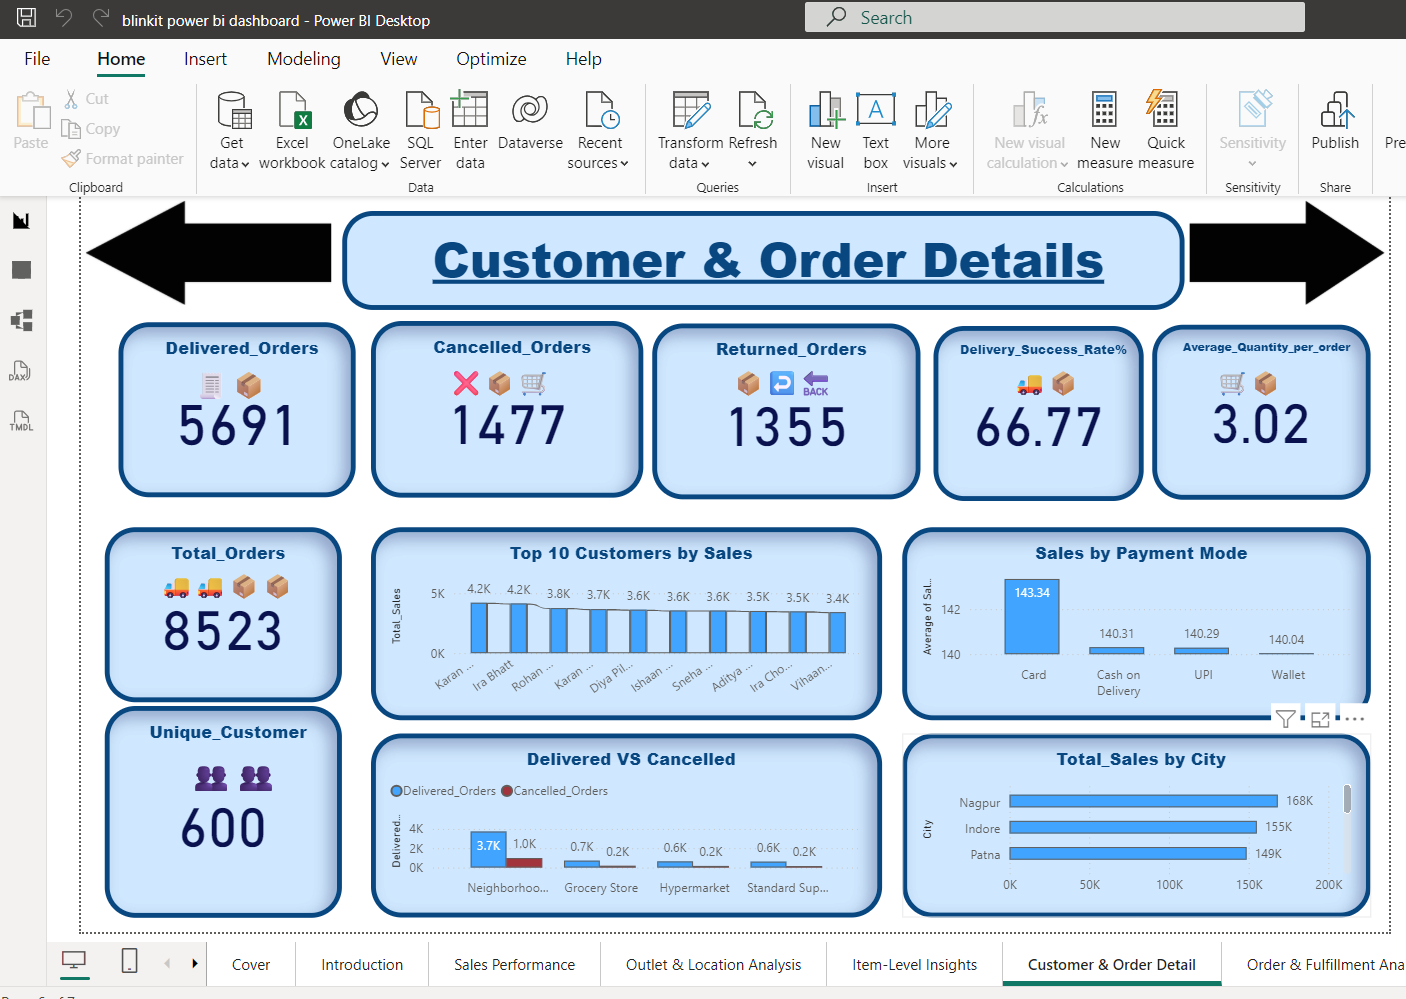

The dashboard page shown, as its layout file describes it:
{"tool":"powerbi","page":{"name":"Customer & Order Detail","canvas":[1280,720],"ordinal":5},"visuals":[{"type":"textbox","title":"Customer & Order Details","box":[255.6,14.7,824.2,96.6],"z":0},{"type":"cardVisual","title":"Delivered_Orders","fields":{"Data":["blinkit_data_master.Delivered_Orders"]},"box":[36.7,123.5,232.3,171.2],"z":1000},{"type":"cardVisual","title":"Cancelled_Orders","fields":{"Data":["blinkit_data_master.Cancelled_Orders"]},"box":[283.7,122.3,266.6,172.4],"z":2000},{"type":"cardVisual","title":"Returned_Orders","fields":{"Data":["blinkit_data_master.Returned_Orders"]},"box":[559.2,124.3,262.8,172.2],"z":3000},{"type":"cardVisual","title":"Delivery_Success_Rate%","fields":{"Data":["blinkit_data_master.Delivery_Success_Rate_%"]},"box":[833.7,126.9,205.8,170.9],"z":4000},{"type":"cardVisual","title":"Average_Quantity_per_order","fields":{"Data":["blinkit_data_master.Average_Quantity_per_Order"]},"box":[1048,126,214,171.2],"z":5000},{"type":"cardVisual","title":"Total_Orders","fields":{"Data":["blinkit_data_master.Total_order"]},"box":[23.2,324.1,232.3,171.2],"z":6000},{"type":"cardVisual","title":"Unique_Customer","fields":{"Data":["blinkit_data_master.Unique_Customer"]},"box":[23.3,498.4,231.7,207.1],"z":7000},{"type":"columnChart","title":"Top 10 Customers by Sales","fields":{"Category":["blinkit_data_master.Customer Name"],"Y":["blinkit_data_master.Total_Sales"]},"box":[283.5,323.6,499.7,189],"z":8000},{"type":"clusteredColumnChart","title":"Sales by Payment Mode","fields":{"Category":["blinkit_data_master.Payment Mode"],"Y":["Avg(blinkit_data_master.Sales)"]},"box":[803.9,323.6,458.3,189],"z":9000},{"type":"clusteredColumnChart","title":"Delivered VS Cancelled","fields":{"Y":["blinkit_data_master.Delivered_Orders","blinkit_data_master.Cancelled_Orders"],"Category":["blinkit_data_master.Outlet Type"]},"box":[283.5,525.6,499.7,179.9],"z":10000},{"type":"clusteredBarChart","fields":{"Category":["blinkit_data_master.City"],"Y":["blinkit_data_master.Total_Sales"]},"box":[804,526,458,180],"z":11000},{"type":"textbox","box":[36.7,161.4,218.9,75.8],"z":12000},{"type":"textbox","box":[306.9,161.4,205.4,108.8],"z":13000},{"type":"textbox","box":[568.6,161.4,234.8,137],"z":14000},{"type":"textbox","box":[856,161.4,177.3,137],"z":15000},{"type":"textbox","box":[1073.6,161.4,138.2,119.8],"z":16000},{"type":"textbox","box":[36.7,359.5,212.8,58.7],"z":17000},{"type":"textbox","box":[0,538,299.6,52.6],"z":18000},{"type":"image","box":[0,0,249.5,111.3],"z":18001},{"type":"image","box":[1079.8,0,200.5,111.3],"z":18002}]}

Visuals, with their boxes on the page's 1280x720 design canvas (x1, y1, x2, y2). These are canvas units, not pixel positions in the 1406x999 screenshot, which may show the page scaled, cropped or inside an application window:
"Customer & Order Details" textbox: <box>256,15,1080,111</box>
"Delivered_Orders" cardVisual: <box>37,124,269,295</box>
"Cancelled_Orders" cardVisual: <box>284,122,550,295</box>
"Returned_Orders" cardVisual: <box>559,124,822,296</box>
"Delivery_Success_Rate%" cardVisual: <box>834,127,1040,298</box>
"Average_Quantity_per_order" cardVisual: <box>1048,126,1262,297</box>
"Total_Orders" cardVisual: <box>23,324,256,495</box>
"Unique_Customer" cardVisual: <box>23,498,255,706</box>
"Top 10 Customers by Sales" columnChart: <box>284,324,783,513</box>
"Sales by Payment Mode" clusteredColumnChart: <box>804,324,1262,513</box>
"Delivered VS Cancelled" clusteredColumnChart: <box>284,526,783,706</box>
clusteredBarChart - blinkit_data_master.City x blinkit_data_master.Total_Sales: <box>804,526,1262,706</box>
textbox: <box>37,161,256,237</box>
textbox: <box>307,161,512,270</box>
textbox: <box>569,161,803,298</box>
textbox: <box>856,161,1033,298</box>
textbox: <box>1074,161,1212,281</box>
textbox: <box>37,360,250,418</box>
textbox: <box>0,538,300,591</box>
image: <box>0,0,250,111</box>
image: <box>1080,0,1280,111</box>
